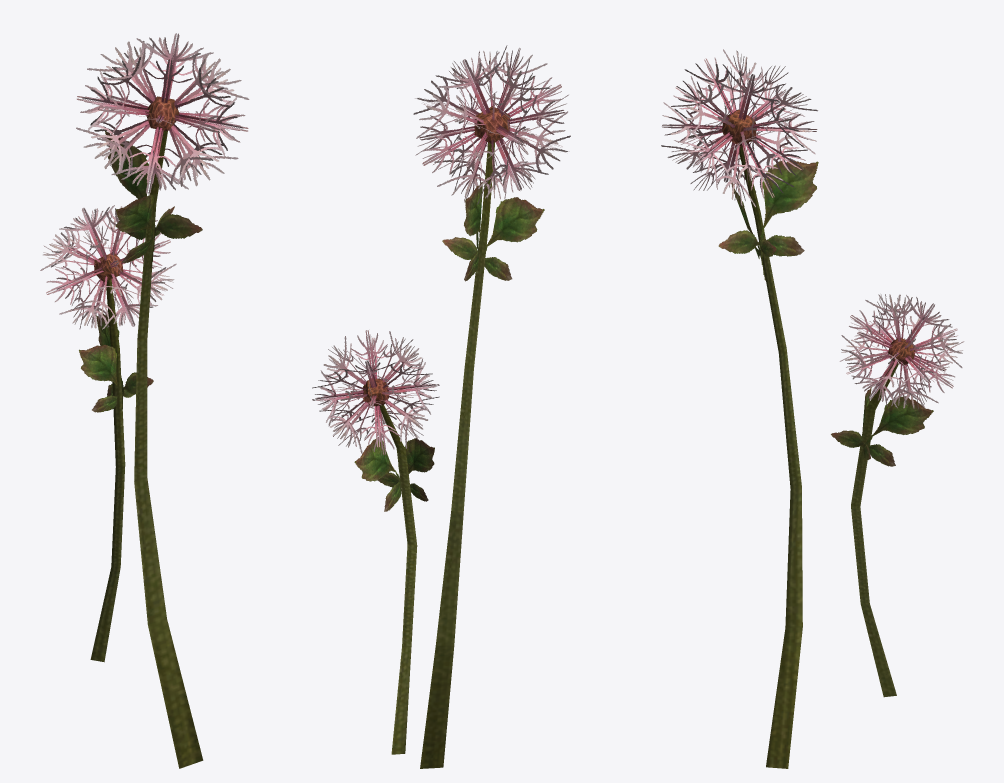
Rendered from bg_anh_foliage_te_f26_sm_ysi.FBX.
3 views of the same model, side by side, from view 1: azimuth 30°, elevation 25°; view 2: azimuth 150°, elevation 25°; view 3: azimuth 270°, elevation 25° (orthographic). The views are drawn at different scales.
Parts seen in each view (by area): view 1: bg_anh_foliage_te_f26_sm_ysi; view 2: bg_anh_foliage_te_f26_sm_ysi; view 3: bg_anh_foliage_te_f26_sm_ysi.
Boxes of the visible parts, bbox=[...] form: bg_anh_foliage_te_f26_sm_ysi: bbox=[40, 33, 249, 768]; bg_anh_foliage_te_f26_sm_ysi: bbox=[312, 45, 570, 768]; bg_anh_foliage_te_f26_sm_ysi: bbox=[661, 49, 964, 768].
Size of the model in its own units: 58.28 by 198 by 91.63.
